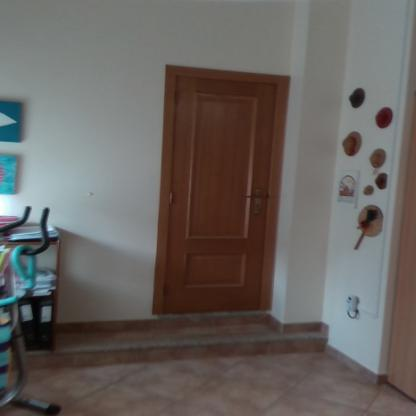door: (178, 78, 266, 310)
hinged: (173, 90, 181, 106), (162, 282, 170, 297), (168, 191, 174, 205)
lever: (245, 194, 263, 199)
